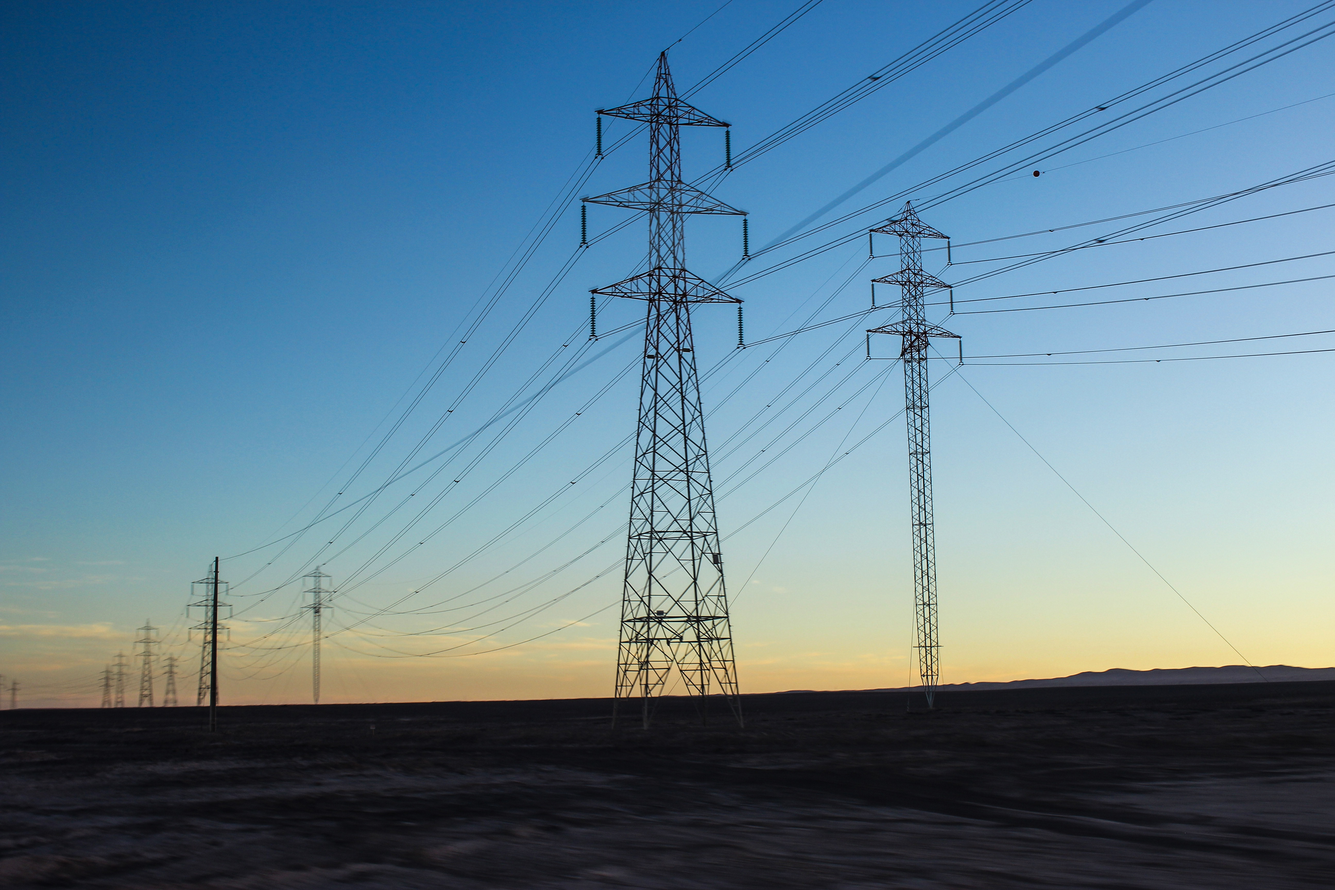insulator: (718, 125, 734, 172), (577, 200, 591, 253), (591, 111, 605, 163), (587, 296, 602, 343), (733, 300, 746, 348), (941, 237, 958, 271), (739, 213, 750, 262), (868, 283, 883, 310), (864, 329, 875, 365), (956, 337, 967, 370), (867, 226, 875, 269), (946, 286, 957, 314)
